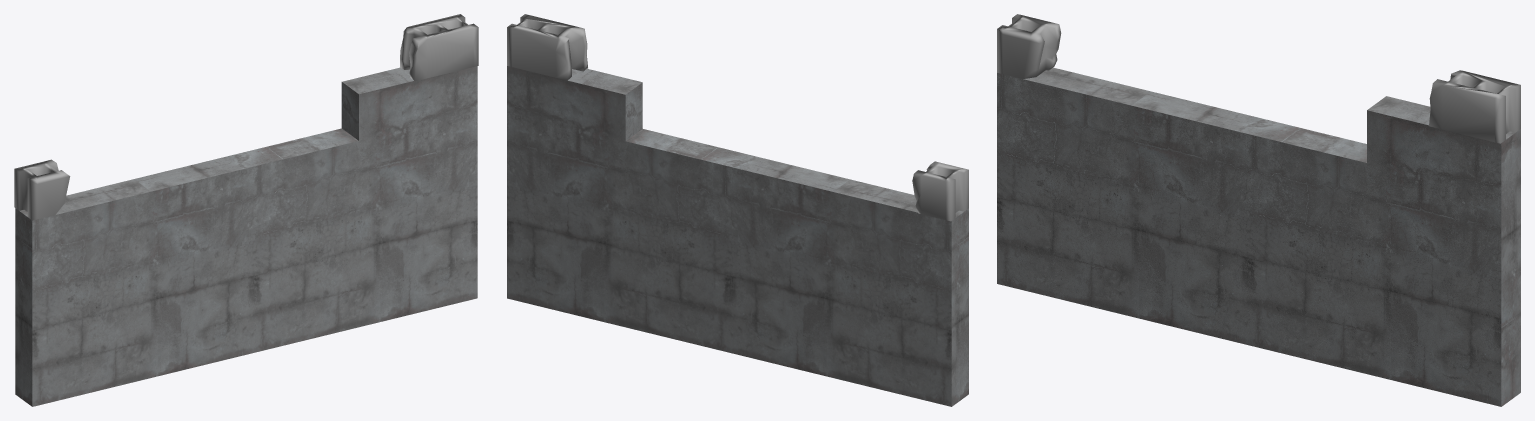
The model's file is wall_1window_01_Broken_02.fbx.
3 renders of one model, left to right at view 1: azimuth 30°, elevation 25°; view 2: azimuth 150°, elevation 25°; view 3: azimuth 330°, elevation 25°, orthographic. The views are drawn at different scales.
Parts seen in each view (by area): view 1: wall_1window_01_Broken_02; view 2: wall_1window_01_Broken_02; view 3: wall_1window_01_Broken_02.
Boxes of the visible parts, <box> form: wall_1window_01_Broken_02: <box>14,14,478,406</box>; wall_1window_01_Broken_02: <box>507,14,968,406</box>; wall_1window_01_Broken_02: <box>997,14,1520,406</box>.
Size of the model in its own units: 300 by 175 by 21.86.
2 materials, 1 textured.
